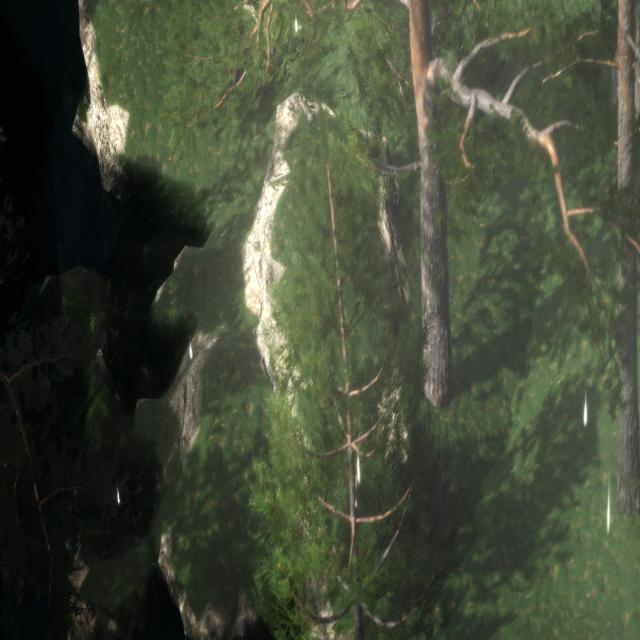Human: (199, 8, 268, 92)
